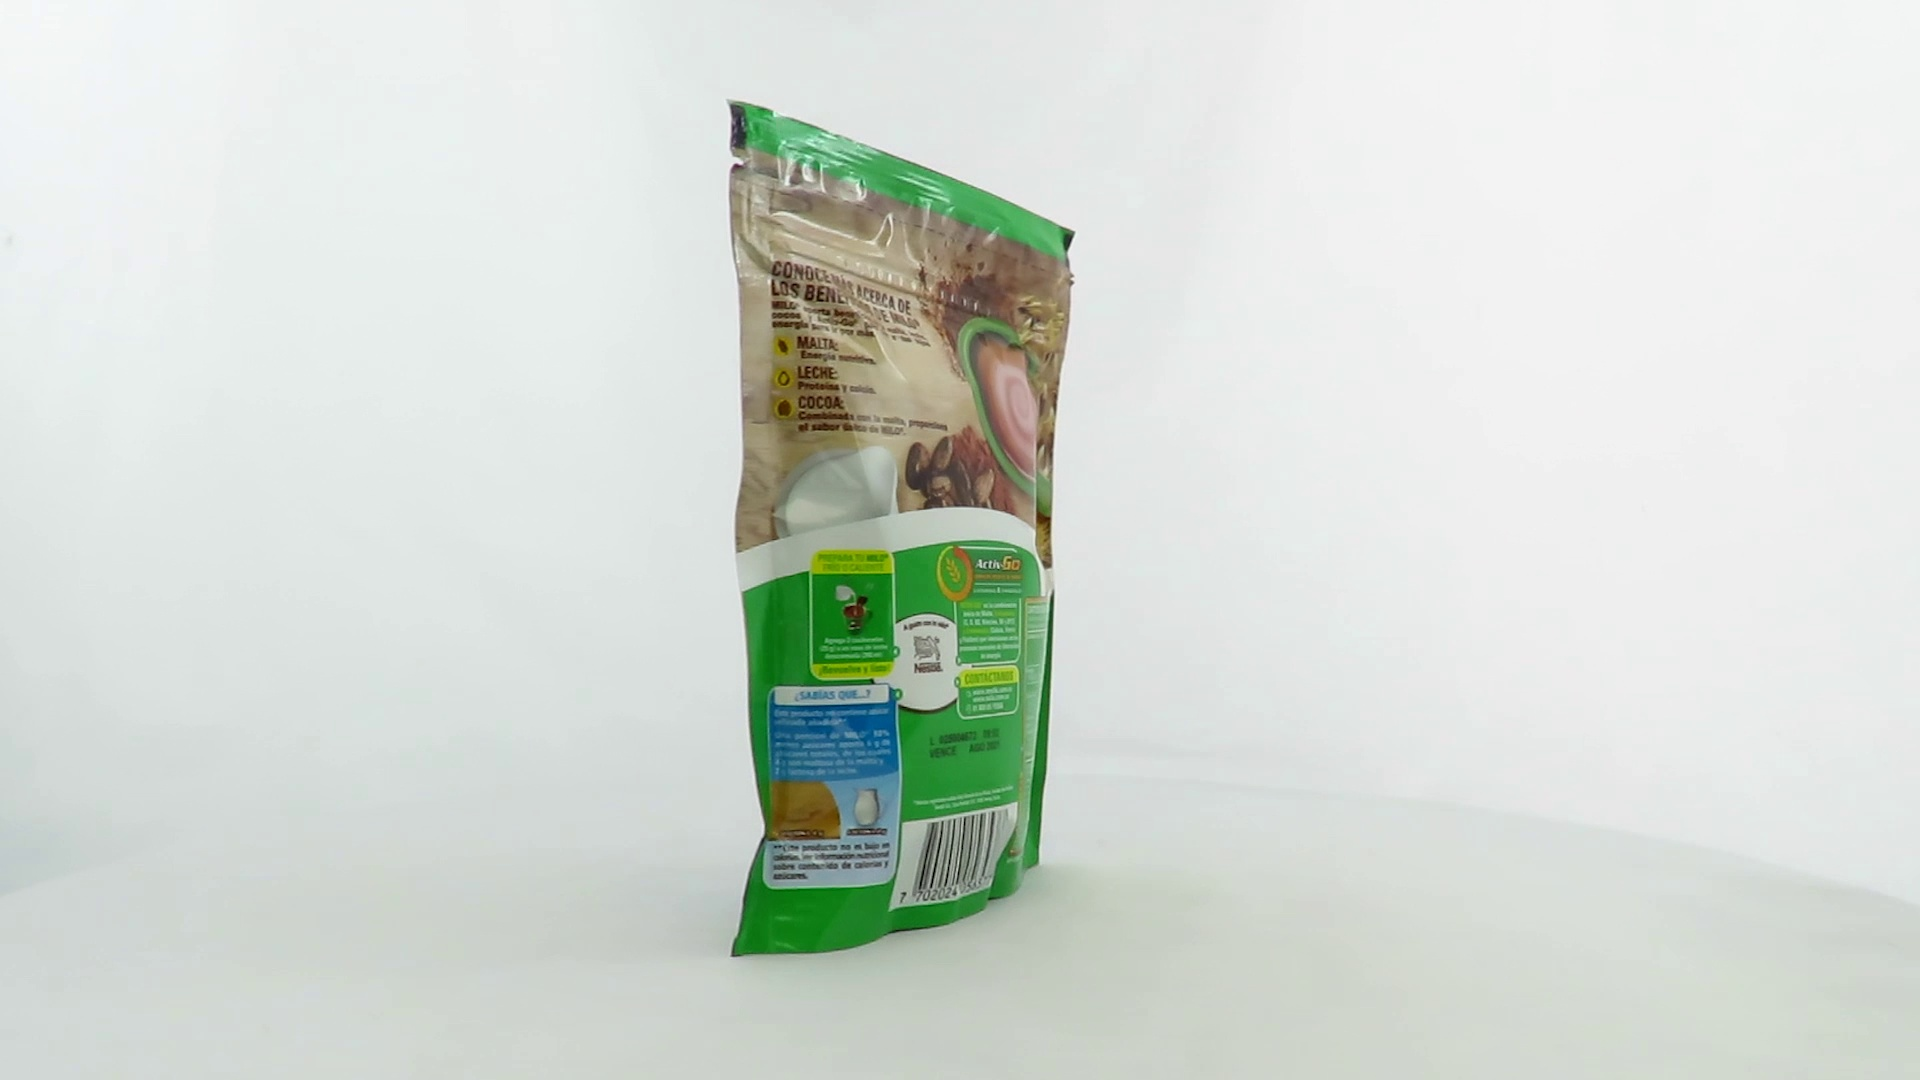COL0170205DYP20000: (721, 94, 1081, 963)
